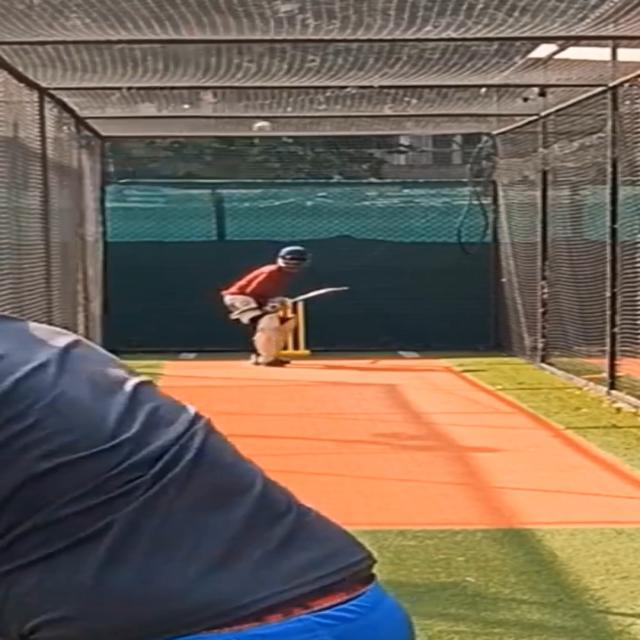ball: (242, 118, 276, 135)
stump: (276, 297, 312, 358)
